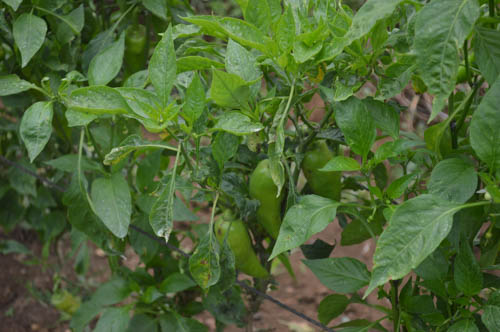ChiliPepper: (215, 221, 271, 279), (250, 162, 283, 242), (306, 147, 343, 205), (123, 32, 150, 81)
